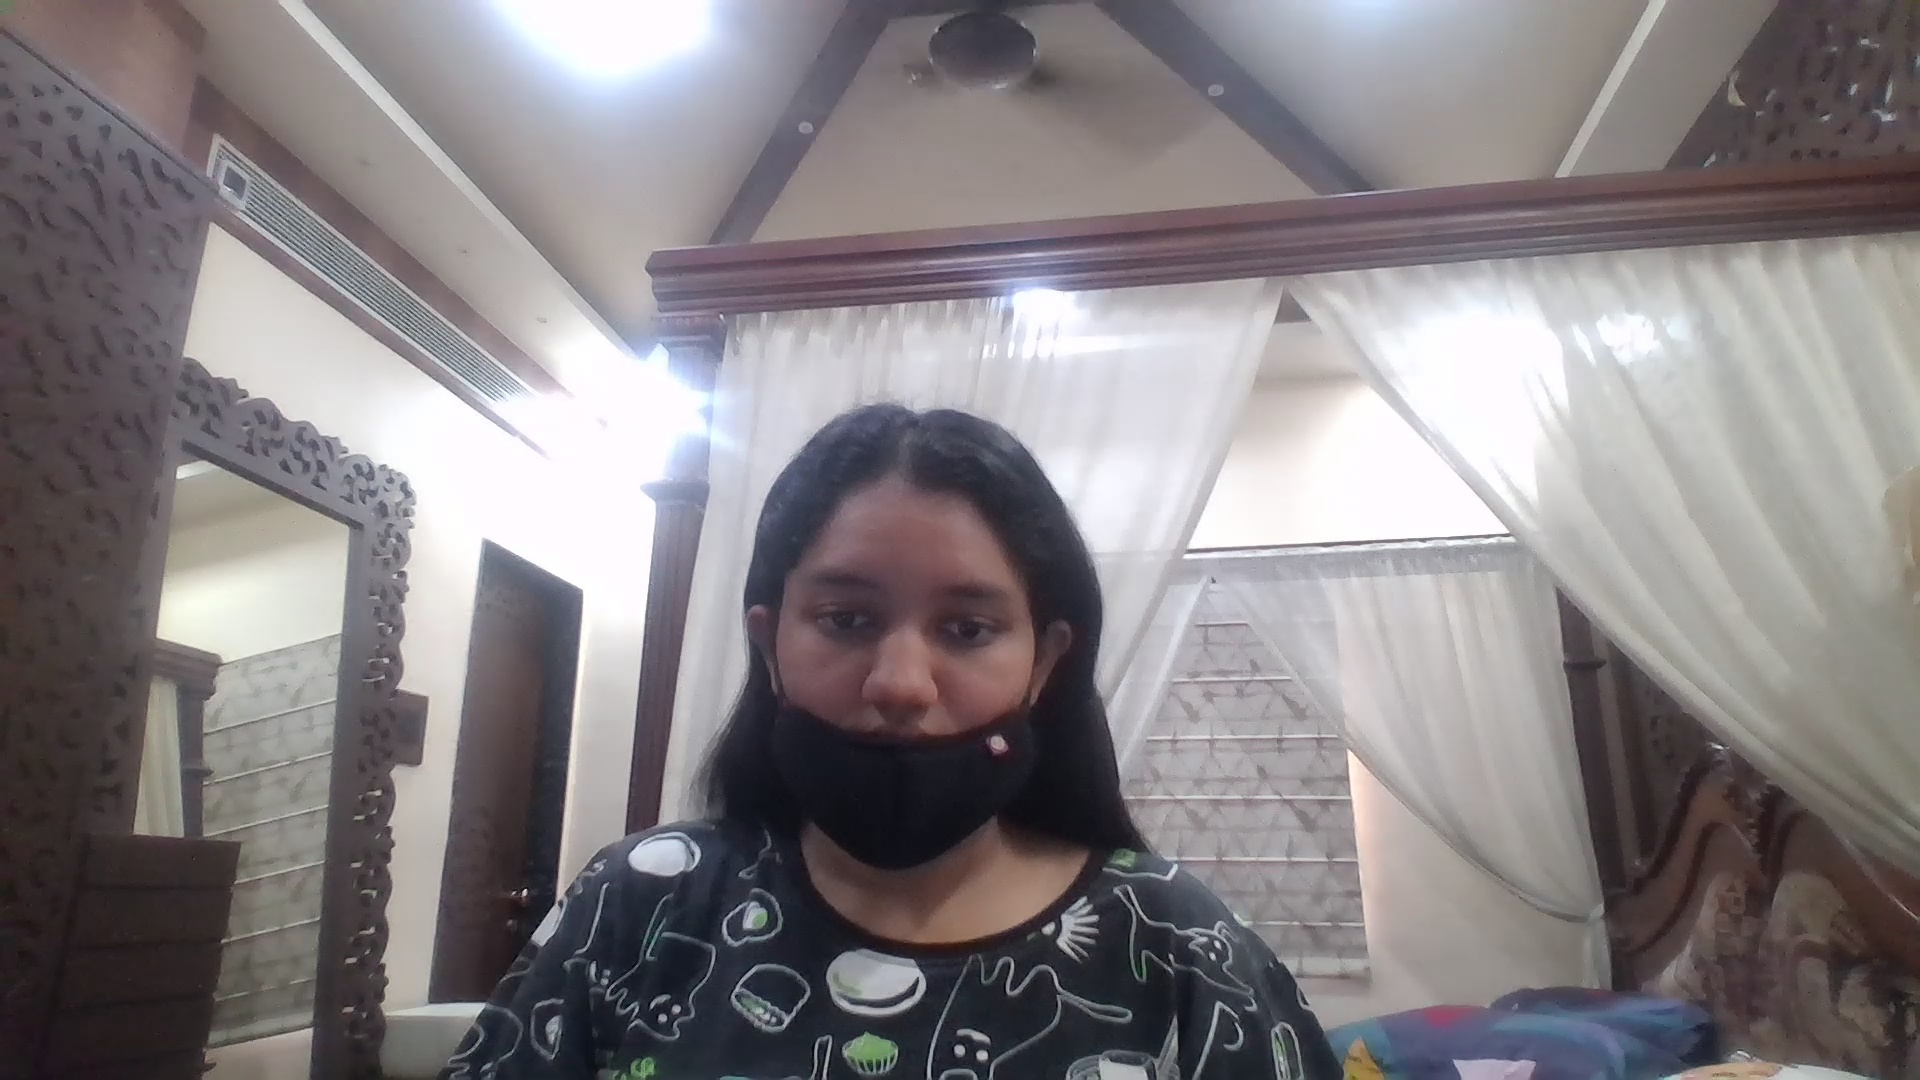Mask: (771, 664, 1039, 878)
